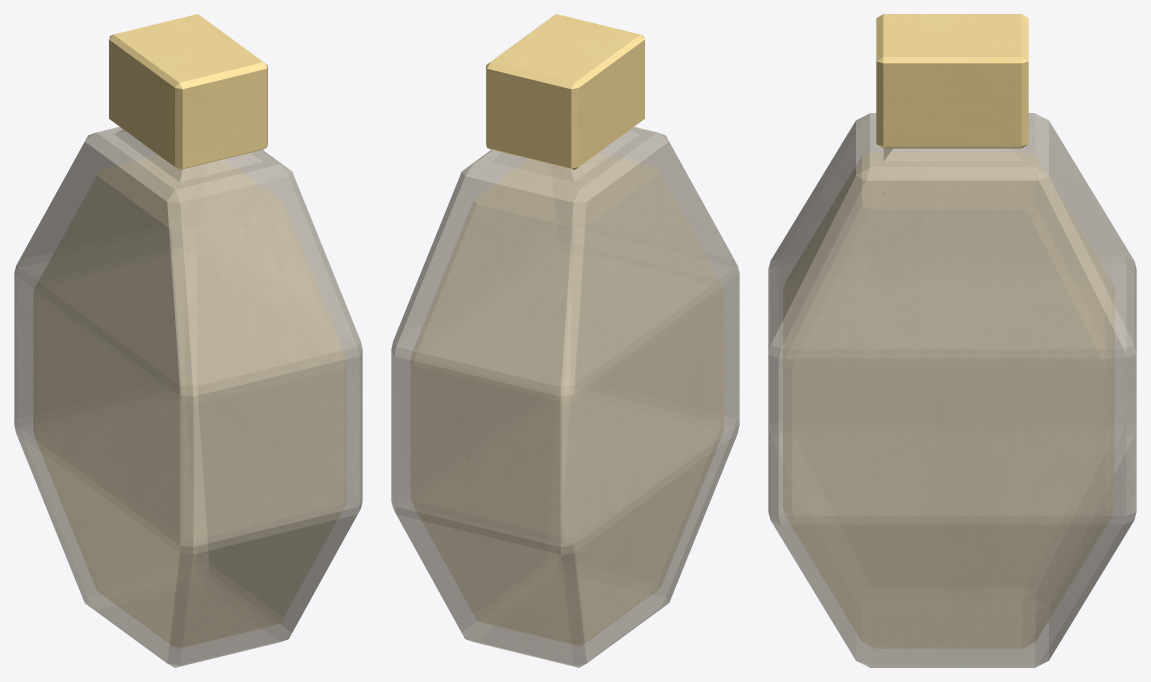
File: bottle_white.glb
The picture shows the model from 3 angles, left to right: view 1: azimuth 30°, elevation 25°; view 2: azimuth 150°, elevation 25°; view 3: azimuth 270°, elevation 25°; orthographic projection. The views are drawn at different scales.
Parts seen in each view (by area): view 1: bottle.001, water.001, top.001; view 2: bottle.001, water.001, top.001; view 3: bottle.001, water.001, top.001.
Part boxes in pixels (x1=…): bottle.001: x1=14, y1=126, x2=362, y2=667; water.001: x1=33, y1=156, x2=346, y2=648; top.001: x1=109, y1=14, x2=267, y2=169; bottle.001: x1=391, y1=126, x2=739, y2=667; water.001: x1=410, y1=153, x2=723, y2=645; top.001: x1=486, y1=14, x2=644, y2=169; bottle.001: x1=768, y1=113, x2=1136, y2=667; water.001: x1=783, y1=153, x2=1114, y2=648; top.001: x1=876, y1=14, x2=1028, y2=148.
Size of the model in its own units: 1.2 by 3.63 by 2.
3 materials, 3 textured.
